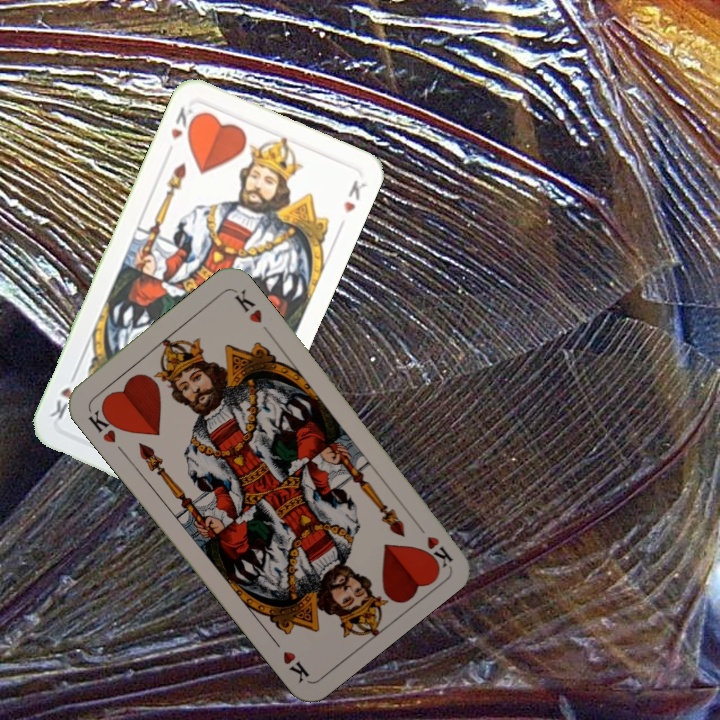HK: (409, 516, 456, 569), (84, 402, 124, 446), (166, 102, 202, 142)
